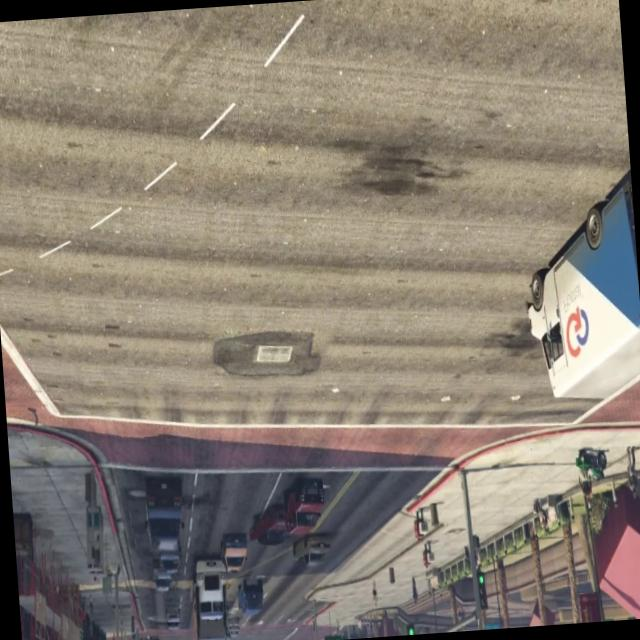Green-Signal: (472, 560, 492, 618), (403, 615, 419, 635), (320, 627, 344, 640)
